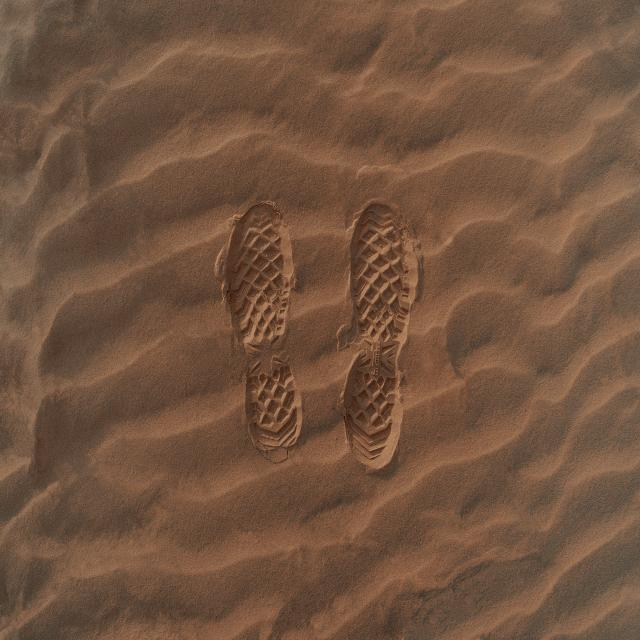human_footprint: (210, 195, 425, 476)
